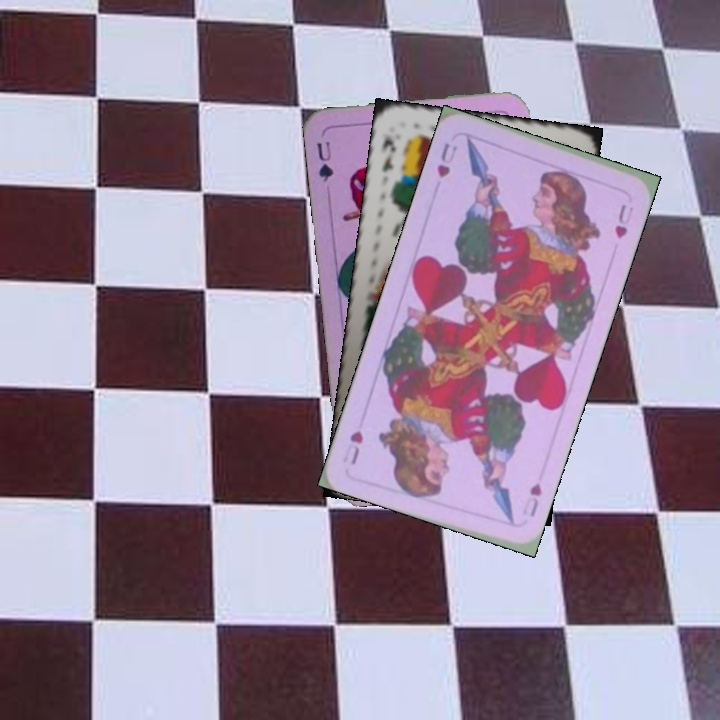EK: (378, 132, 399, 175)
GU: (312, 137, 336, 184)
HU: (433, 139, 460, 181), (525, 478, 545, 520)
